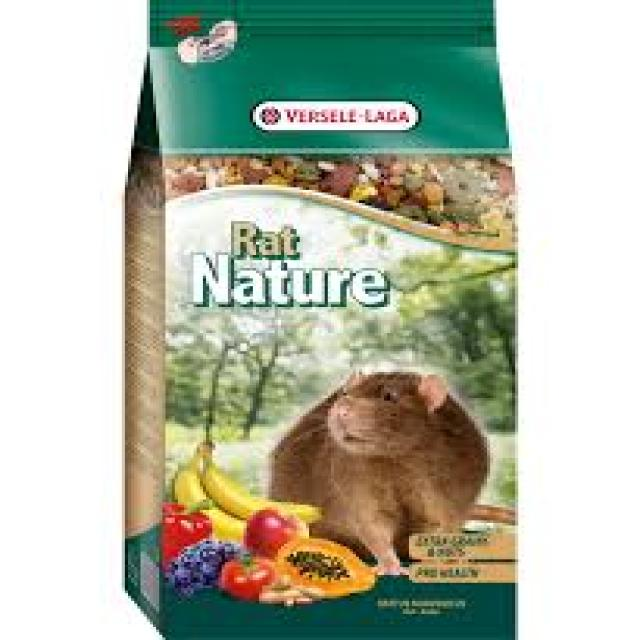rat: (262, 367, 515, 575)
